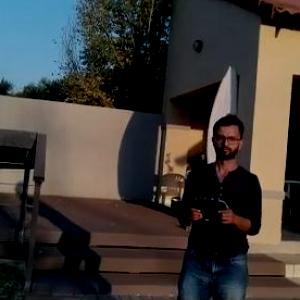follow: (166, 106, 262, 299)
